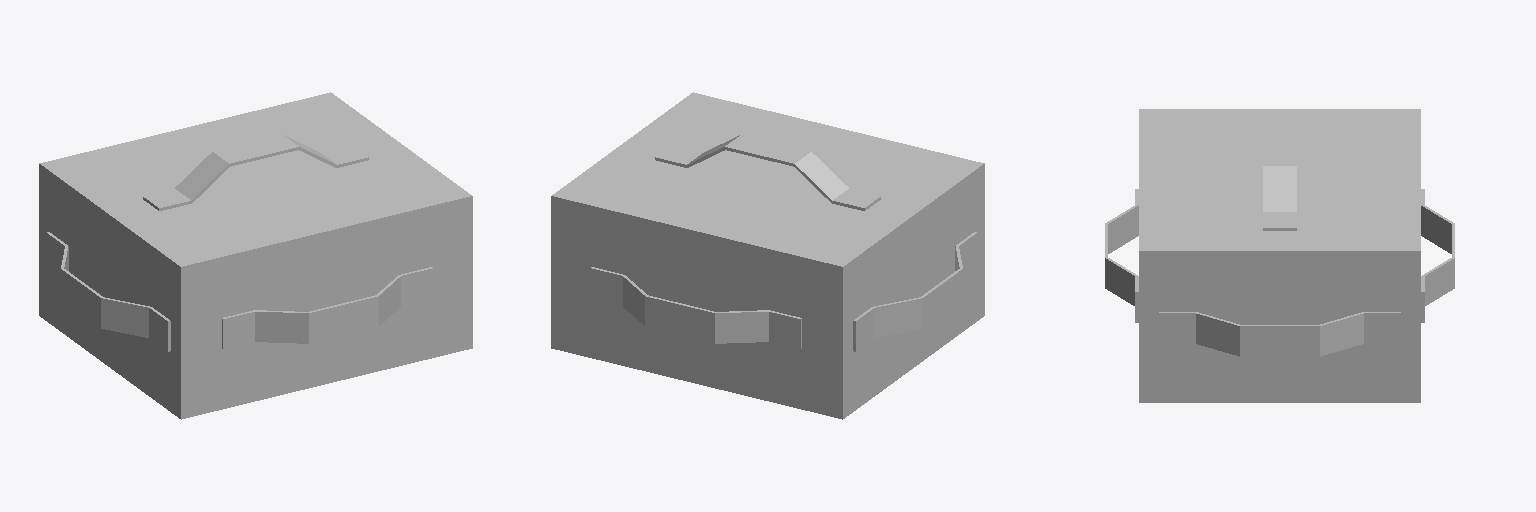
The model's file is cargo_bag.obj.
The picture shows the model from 3 angles: view 1: azimuth 30°, elevation 25°; view 2: azimuth 150°, elevation 25°; view 3: azimuth 270°, elevation 25°; orthographic projection.
Parts seen in each view (by area): view 1: Body1; view 2: Body1; view 3: Body1.
Boxes of the visible parts, box(x1,y1,x2,y2) form: Body1: box(39, 92, 472, 419); Body1: box(551, 92, 984, 419); Body1: box(1105, 109, 1454, 402).
Size of the model in its own units: 0.6 by 0.35 by 0.52.